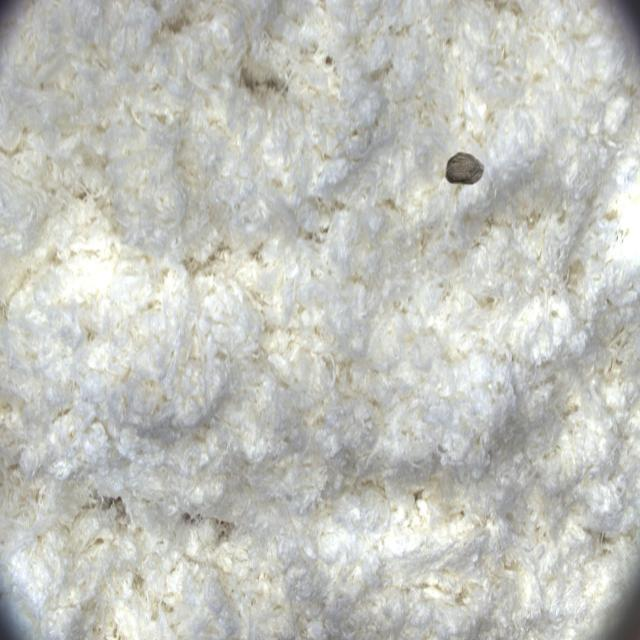dust: (426, 98, 514, 221)
